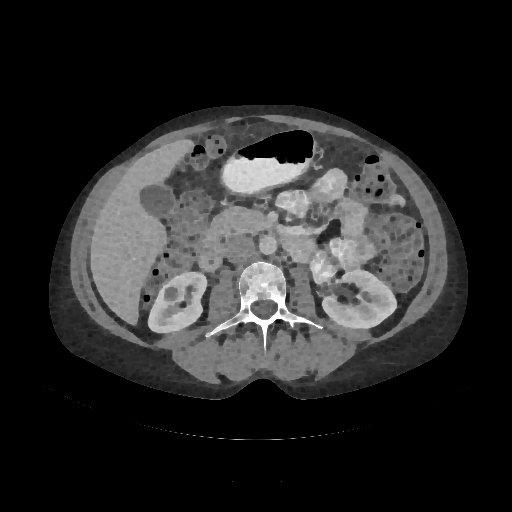Lesion: (160, 283, 183, 304)
